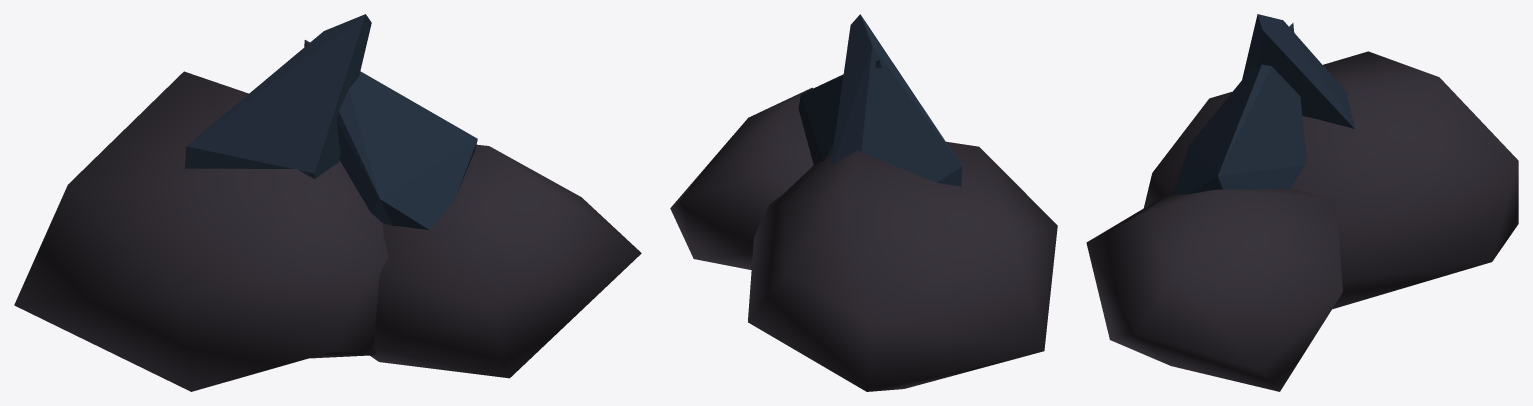
File: veio_2.glb
3 views of the same model, side by side, from view 1: azimuth 30°, elevation 25°; view 2: azimuth 150°, elevation 25°; view 3: azimuth 270°, elevation 25° (orthographic). The views are drawn at different scales.
Visible parts, largest first — view 1: veio_2; view 2: veio_2; view 3: veio_2.
Part boxes in pixels (x1,y1,x2,y2): veio_2: (14,14,641,391); veio_2: (670,14,1057,391); veio_2: (1086,14,1518,391).
Size of the model in its own units: 0.6902 by 0.4261 by 0.5566.
